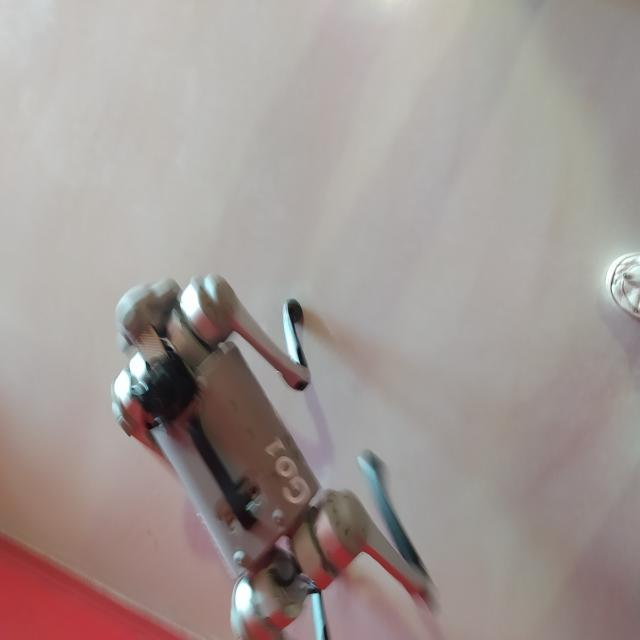unitree-go1-robot: (108, 261, 443, 640)
